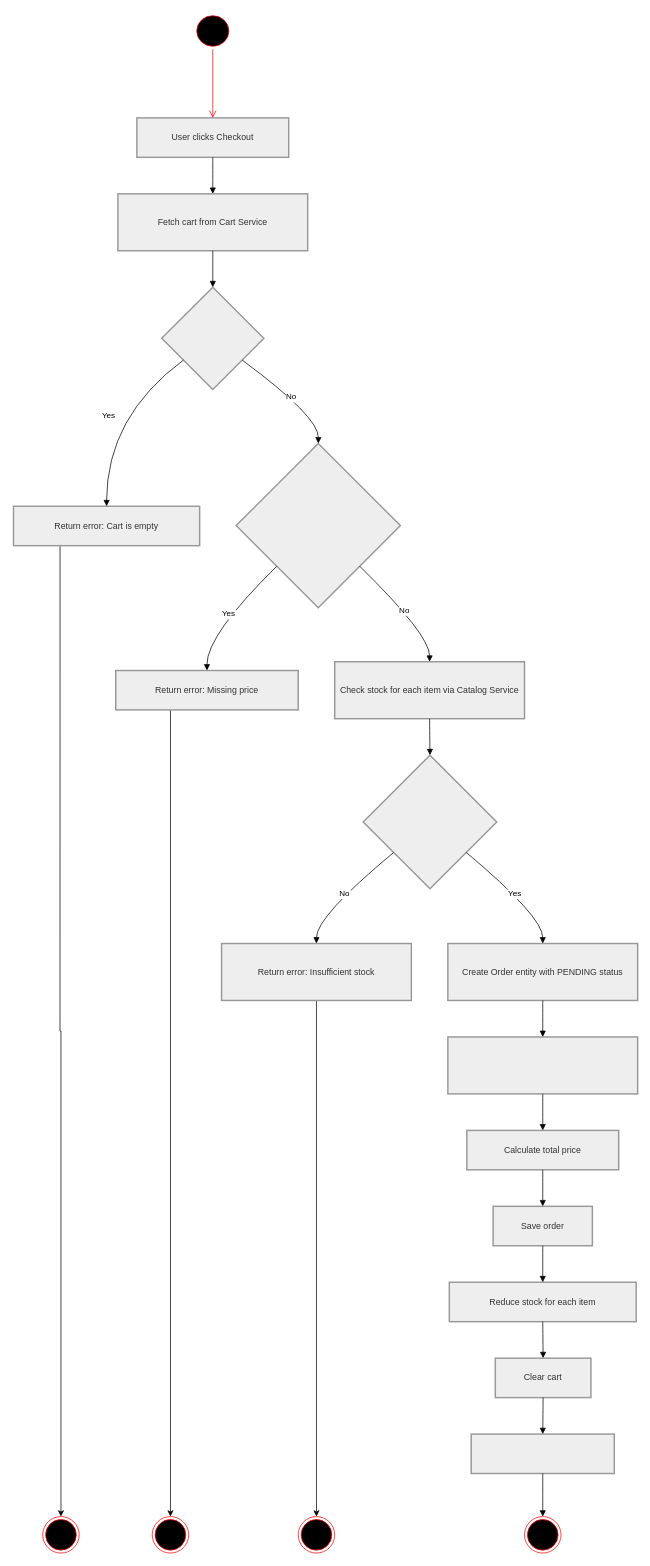
Some shapes in this 650 by 1566 pixel diagram are drawn without their labels. Each missing label, with the centre of its shape:
"All items in stock?" goes at [429,821].
"Any item has null price?" goes at [318,525].
"Cart empty?" goes at [212,338].
"Map CartItems to OrderItems" goes at [542,1065].
"Return saved order" goes at [542,1453].
